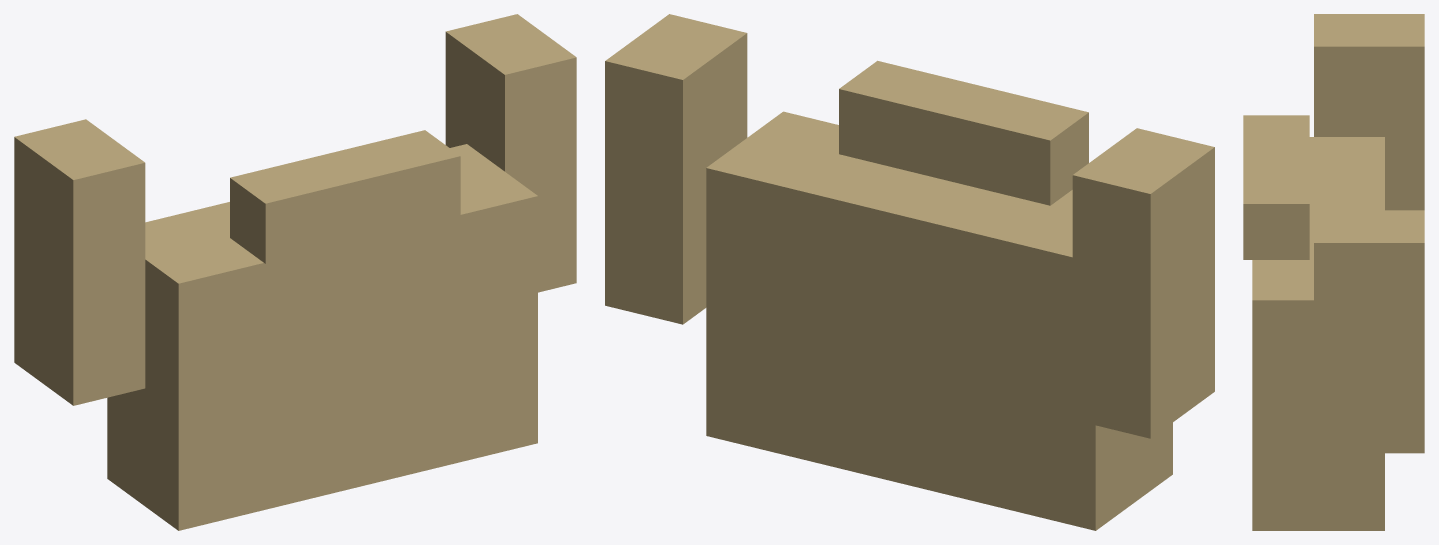
The model's file is face-beard-blond.glb.
3 views of the same model, side by side, from view 1: azimuth 30°, elevation 25°; view 2: azimuth 150°, elevation 25°; view 3: azimuth 270°, elevation 25° (orthographic). The views are drawn at different scales.
Parts seen in each view (by area): view 1: beard_chin, beard_cheek_-1, beard_cheek_1, beard_stache; view 2: beard_chin, beard_cheek_-1, beard_cheek_1, beard_stache; view 3: beard_chin, beard_cheek_1, beard_cheek_-1, beard_stache.
Boxes of the visible parts, x1,y1,x2,y2 form: beard_chin: (107, 144, 537, 530); beard_cheek_-1: (14, 119, 145, 405); beard_cheek_1: (445, 14, 576, 292); beard_stache: (230, 130, 460, 263); beard_chin: (706, 111, 1172, 530); beard_cheek_-1: (1072, 128, 1214, 438); beard_cheek_1: (605, 14, 747, 324); beard_stache: (839, 60, 1088, 205); beard_chin: (1252, 137, 1384, 530); beard_cheek_1: (1314, 210, 1424, 453); beard_cheek_-1: (1314, 14, 1424, 210); beard_stache: (1243, 115, 1309, 259).
Bounding box in the file's own units: 0.245 × 0.16 × 0.082.
